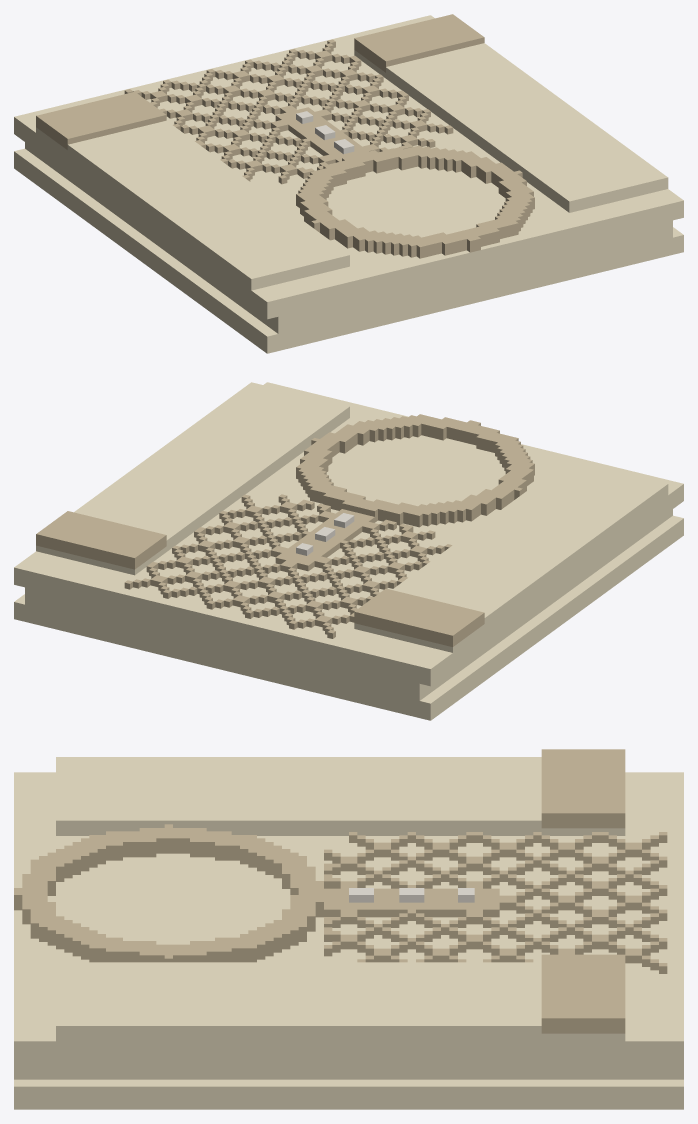
File: long_undertop.glb
The picture shows the model from 3 angles, top to bottom: view 1: azimuth 30°, elevation 25°; view 2: azimuth 150°, elevation 25°; view 3: azimuth 270°, elevation 25°; orthographic projection. The views are drawn at different scales.
Visible parts, largest first — view 1: long_undertop:compound; view 2: long_undertop:compound; view 3: long_undertop:compound.
Part boxes in pixels (bbox=[...]): long_undertop:compound: bbox=[14, 14, 683, 353]; long_undertop:compound: bbox=[14, 382, 683, 720]; long_undertop:compound: bbox=[14, 749, 683, 1109].
Size of the model in its own units: 0.304 by 0.048 by 0.32.
